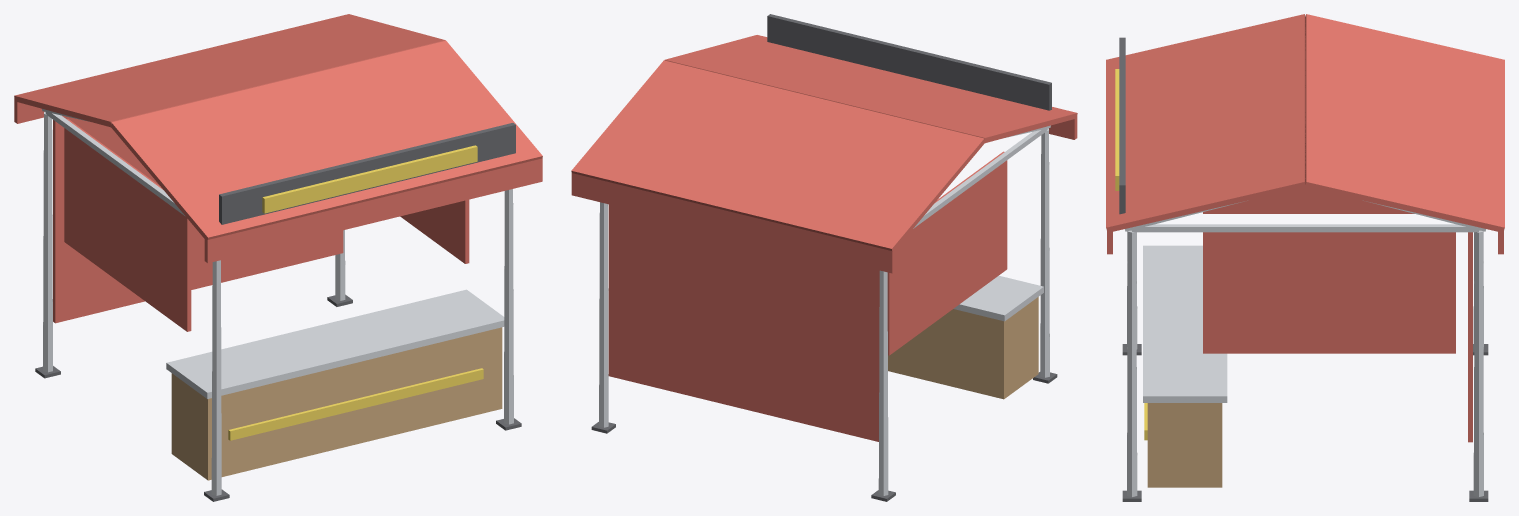
File: street-food-market-and-food-trucks-gazebo-stall-with-c-e8a7b705.glb
The picture shows the model from 3 angles, left to right: view 1: azimuth 30°, elevation 25°; view 2: azimuth 150°, elevation 25°; view 3: azimuth 270°, elevation 25°; orthographic projection. The views are drawn at different scales.
Visible parts, largest first — view 1: gazebo-stall-with-canopy-scarlet, gazebo-stall-with-canopy-timber, gazebo-stall-with-canopy-steel, gazebo-stall-with-canopy-canary, gazebo-stall-with-canopy-charcoal; view 2: gazebo-stall-with-canopy-scarlet, gazebo-stall-with-canopy-steel, gazebo-stall-with-canopy-timber, gazebo-stall-with-canopy-charcoal; view 3: gazebo-stall-with-canopy-scarlet, gazebo-stall-with-canopy-steel, gazebo-stall-with-canopy-timber, gazebo-stall-with-canopy-charcoal, gazebo-stall-with-canopy-canary.
Part boxes in pixels (x1,y1,x2,y2): gazebo-stall-with-canopy-scarlet: [14, 14, 542, 331]; gazebo-stall-with-canopy-timber: [171, 327, 502, 480]; gazebo-stall-with-canopy-steel: [42, 109, 513, 495]; gazebo-stall-with-canopy-canary: [228, 145, 483, 440]; gazebo-stall-with-canopy-charcoal: [35, 123, 521, 501]; gazebo-stall-with-canopy-scarlet: [571, 35, 1077, 441]; gazebo-stall-with-canopy-steel: [599, 125, 1050, 495]; gazebo-stall-with-canopy-timber: [888, 297, 1038, 399]; gazebo-stall-with-canopy-charcoal: [591, 14, 1057, 501]; gazebo-stall-with-canopy-scarlet: [1106, 14, 1504, 442]; gazebo-stall-with-canopy-steel: [1125, 200, 1485, 496]; gazebo-stall-with-canopy-timber: [1147, 403, 1222, 487]; gazebo-stall-with-canopy-charcoal: [1119, 37, 1488, 501]; gazebo-stall-with-canopy-canary: [1115, 69, 1147, 440].
Bounding box in the file's own units: 3.3 × 2.99 × 3.31.
